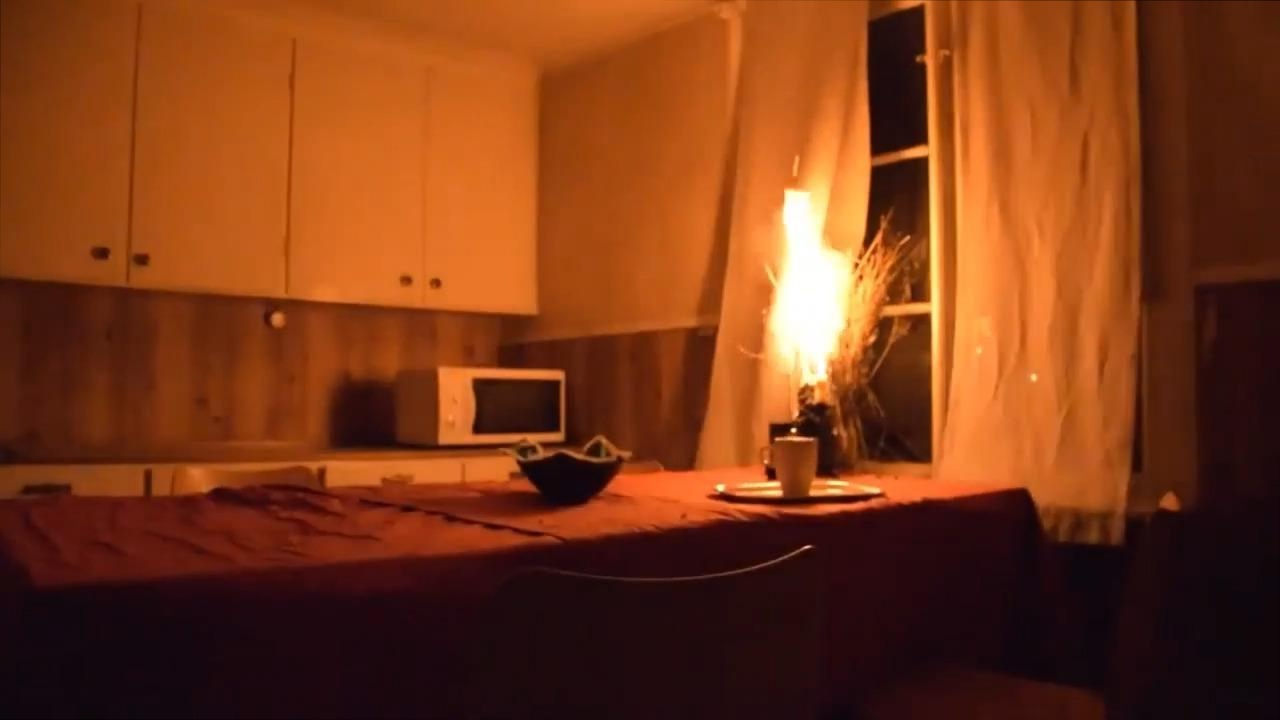fire: (737, 163, 898, 416)
